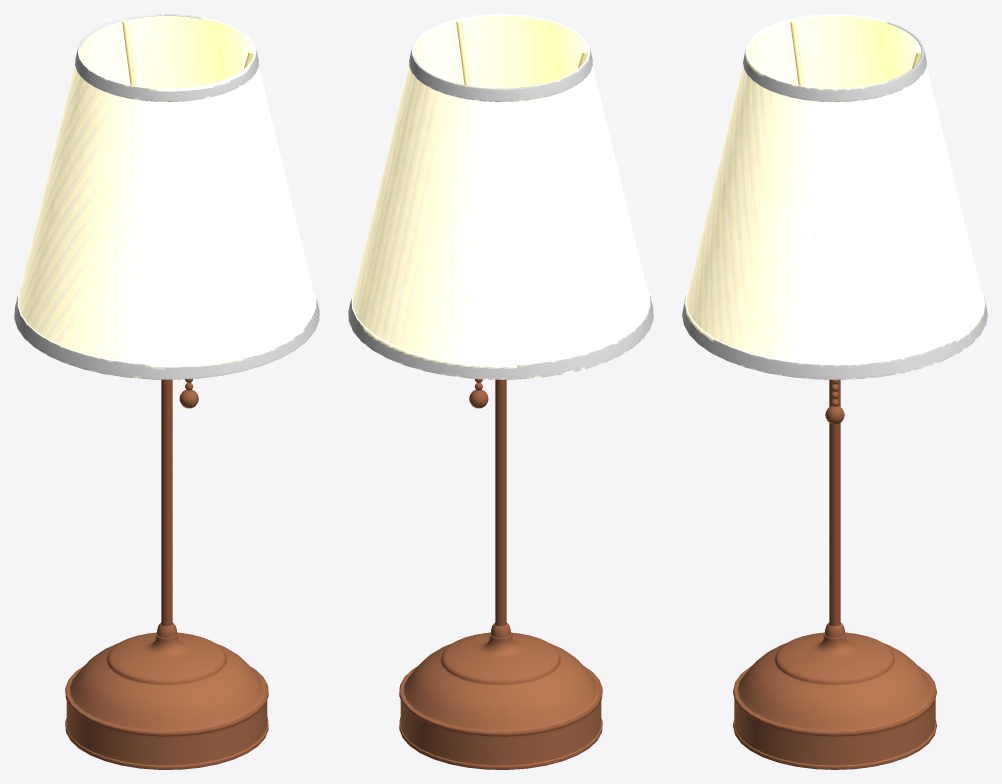
The model's file is MEGA_PACK_lamp__lamp-31085_2.glb.
3 views of the same model, side by side, from view 1: azimuth 30°, elevation 25°; view 2: azimuth 150°, elevation 25°; view 3: azimuth 270°, elevation 25° (orthographic).
Visible parts, largest first — view 1: lamp-31085_2; view 2: lamp-31085_2; view 3: lamp-31085_2.
Boxes of the visible parts, x1,y1,x2,y2 form: lamp-31085_2: (14, 14, 319, 769); lamp-31085_2: (348, 14, 653, 769); lamp-31085_2: (682, 14, 987, 769).
Bounding box in the file's own units: 0.2259 × 0.5503 × 0.2259.
Materials: 1 (1 with a texture image).
